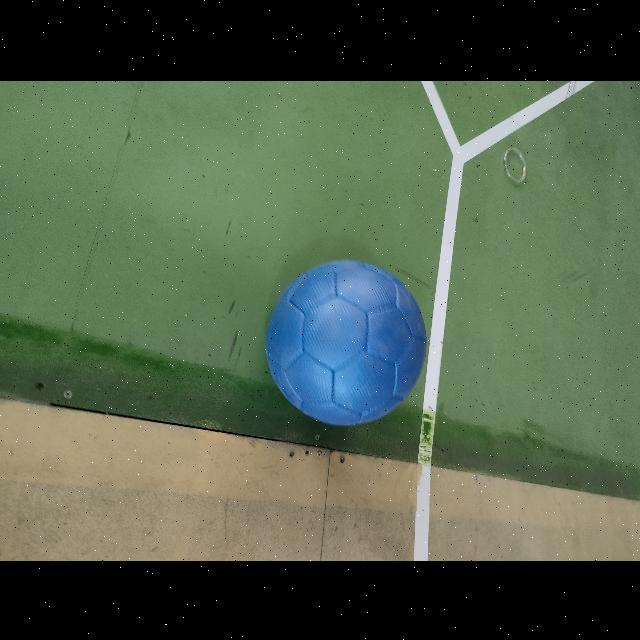B: (268, 260, 427, 424)
